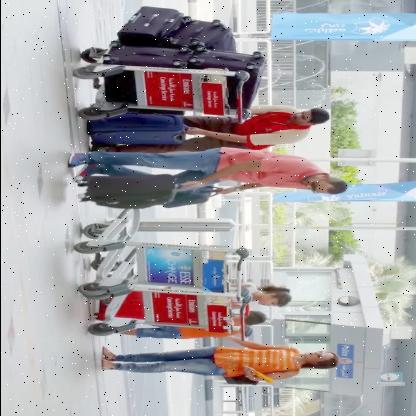airport-trolley: (68, 5, 270, 129), (75, 204, 249, 302), (84, 278, 252, 346)
